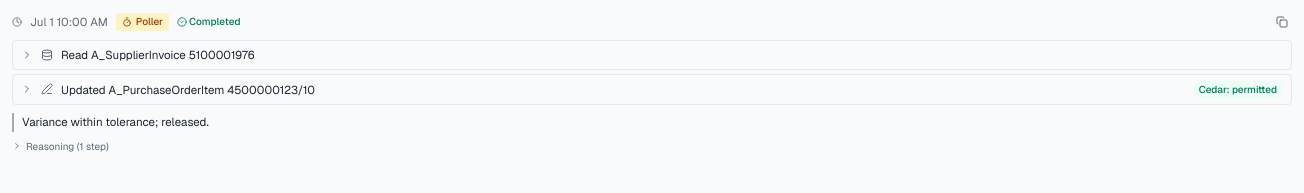
Test case: CaseTimeline › collapses reasoning behind a disclosure and leaves the conclusion visible
Check: the text "Looking up the invoice." is not shown
Click the button "Reasoning (1 step)" at (60, 146), box [12,140,109,153]
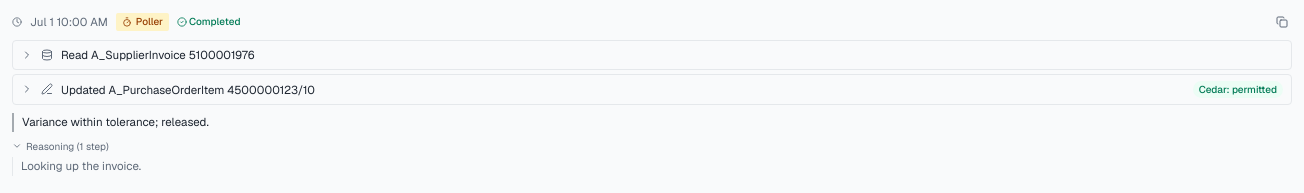
Check: the text "Looking up the invoice." is shown, box [21,158,141,173]
